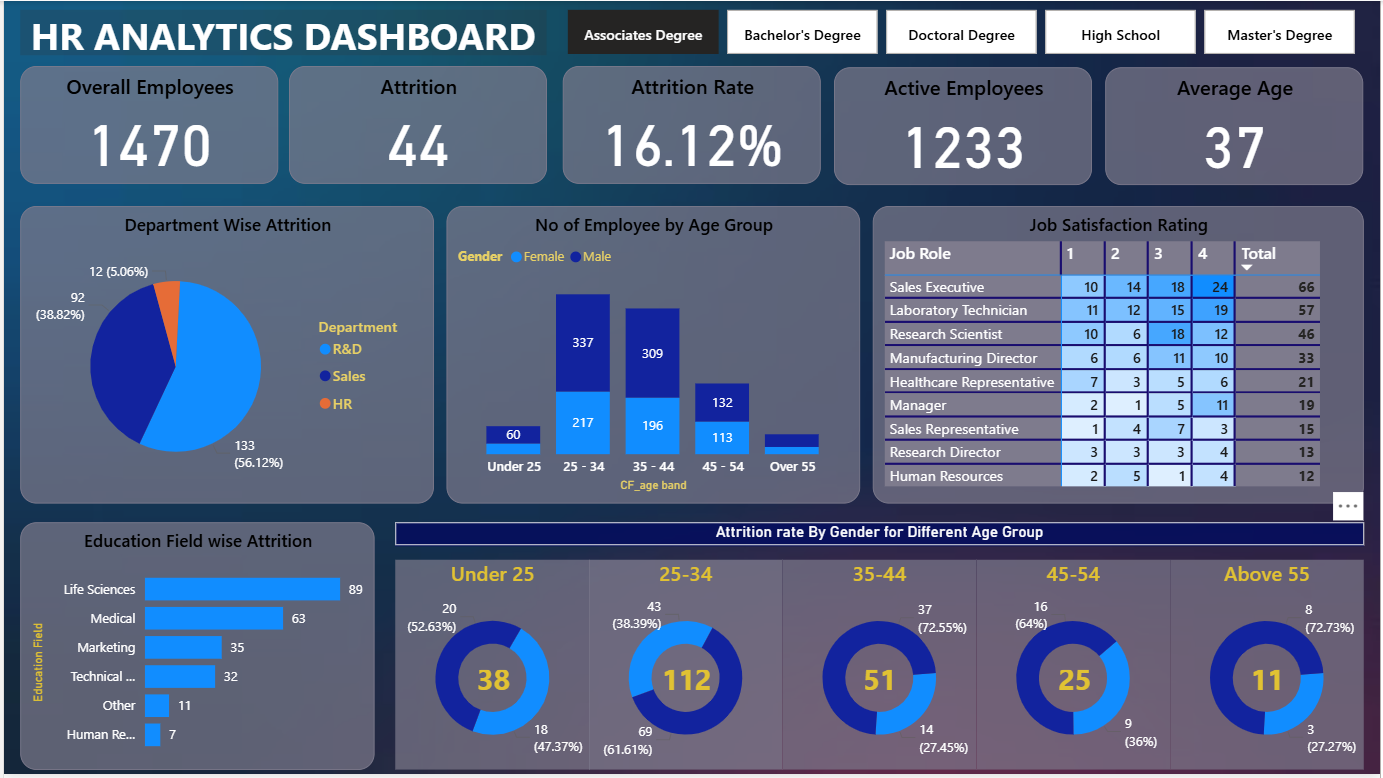

This screenshot's page, from the dashboard's own definition file:
{"tool":"powerbi","page":{"name":"Page 1","canvas":[1280,720],"ordinal":0},"visuals":[{"type":"card","title":"Overall Employees","fields":{"Values":["Sum(HR data.Employee Count)"]},"box":[15.3,60,240,109.4],"z":0},{"type":"card","title":"Attrition","fields":{"Values":["Sum(HR data.Attrition Count)"]},"box":[264.7,60,240,109.4],"z":1000},{"type":"card","title":"Attrition Rate","fields":{"Values":["HR data.Attrition Rate"]},"box":[520,60,240,109.4],"z":2000},{"type":"card","title":"Active Employees","fields":{"Values":["HR data.Active Employees"]},"box":[771.8,61.2,240,109.4],"z":3000},{"type":"card","title":"Average Age","fields":{"Values":["Avg(HR data.Age)"]},"box":[1024.7,61.2,240,109.4],"z":4000},{"type":"pieChart","title":"Department Wise Attrition","fields":{"Category":["HR data.Department"],"Y":["Sum(HR data.Attrition Count)"]},"box":[15.3,190.6,384.7,276.5],"z":5000},{"type":"columnChart","title":"No of Employee by Age Group","fields":{"Category":["HR data.CF_age band"],"Y":["Sum(HR data.Employee Count)"],"Series":["HR data.Gender"]},"box":[411.8,190.6,384.7,276.5],"z":6000},{"type":"pivotTable","title":"Job Satisfaction Rating","fields":{"Rows":["HR data.Job Role"],"Columns":["HR data.Job Satisfaction"],"Values":["Sum(HR data.Employee Count)"]},"box":[808.2,190.6,456.5,276.5],"z":7000},{"type":"barChart","title":"Education Field wise Attrition","fields":{"Category":["HR data.Education Field","HR data.Attrition Count"],"Y":["Sum(HR data.Attrition Count)"]},"box":[15.3,484.7,329.4,230.6],"z":8000},{"type":"donutChart","title":"Under 25","fields":{"Category":["HR data.Gender"],"Y":["Sum(HR data.Attrition Count)"],"Series":["HR data.CF_age band"]},"box":[363.5,520,181.2,195.3],"z":9000},{"type":"textbox","title":"Attrition rate By Gender for Different Age Group","box":[363.5,484.7,901.2,22.4],"z":10000},{"type":"donutChart","title":"25-34","fields":{"Category":["HR data.Gender"],"Y":["Sum(HR data.Attrition Count)"],"Series":["HR data.CF_age band"]},"box":[544.7,520,180,195.3],"z":11000},{"type":"donutChart","title":"35-44","fields":{"Category":["HR data.Gender"],"Y":["Sum(HR data.Attrition Count)"],"Series":["HR data.CF_age band"]},"box":[724.7,520,180,195.3],"z":12000},{"type":"donutChart","title":"45-54","fields":{"Category":["HR data.Gender"],"Y":["Sum(HR data.Attrition Count)"],"Series":["HR data.CF_age band"]},"box":[904.7,520,180,195.3],"z":13000},{"type":"donutChart","title":"Above 55","fields":{"Category":["HR data.Gender"],"Y":["Sum(HR data.Attrition Count)"],"Series":["HR data.CF_age band"]},"box":[1084.7,520,180,195.3],"z":14000},{"type":"card","fields":{"Values":["Sum(HR data.Attrition Count)"]},"box":[431.8,617.6,48.2,29.4],"z":15000},{"type":"card","fields":{"Values":["Sum(HR data.Attrition Count)"]},"box":[607.1,617.6,56.5,29.4],"z":16000},{"type":"card","fields":{"Values":["Sum(HR data.Attrition Count)"]},"box":[790.6,617.6,48.2,29.4],"z":17000},{"type":"card","fields":{"Values":["Sum(HR data.Attrition Count)"]},"box":[972.9,617.6,45.9,29.4],"z":18000},{"type":"card","fields":{"Values":["Sum(HR data.Attrition Count)"]},"box":[1151.8,617.6,45.9,29.4],"z":19000},{"type":"textbox","title":"HR ANALYTICS DASHBOARD","box":[15.3,8.2,489.4,42.4],"z":20000},{"type":"advancedSlicerVisual","fields":{"Values":["HR data.Education"]},"box":[520,3.5,744.7,51.8],"z":21000}]}

Visuals, with their boxes in screenshot pixels (x1, y1, x2, y2), scaled from the page's 1280x720 canvas onto the 1383x778 screenshot:
"Overall Employees" card: locate(17, 65, 276, 183)
"Attrition" card: locate(286, 65, 545, 183)
"Attrition Rate" card: locate(562, 65, 821, 183)
"Active Employees" card: locate(834, 66, 1093, 184)
"Average Age" card: locate(1107, 66, 1366, 184)
"Department Wise Attrition" pieChart: locate(17, 206, 432, 505)
"No of Employee by Age Group" columnChart: locate(445, 206, 861, 505)
"Job Satisfaction Rating" pivotTable: locate(873, 206, 1366, 505)
"Education Field wise Attrition" barChart: locate(17, 524, 372, 773)
"Under 25" donutChart: locate(393, 562, 589, 773)
"Attrition rate By Gender for Different Age Group" textbox: locate(393, 524, 1366, 548)
"25-34" donutChart: locate(589, 562, 783, 773)
"35-44" donutChart: locate(783, 562, 978, 773)
"45-54" donutChart: locate(978, 562, 1172, 773)
"Above 55" donutChart: locate(1172, 562, 1366, 773)
card - Sum(HR data.Attrition Count): locate(467, 667, 519, 699)
card - Sum(HR data.Attrition Count): locate(656, 667, 717, 699)
card - Sum(HR data.Attrition Count): locate(854, 667, 906, 699)
card - Sum(HR data.Attrition Count): locate(1051, 667, 1101, 699)
card - Sum(HR data.Attrition Count): locate(1244, 667, 1294, 699)
"HR ANALYTICS DASHBOARD" textbox: locate(17, 9, 545, 55)
advancedSlicerVisual - HR data.Education: locate(562, 4, 1366, 60)
